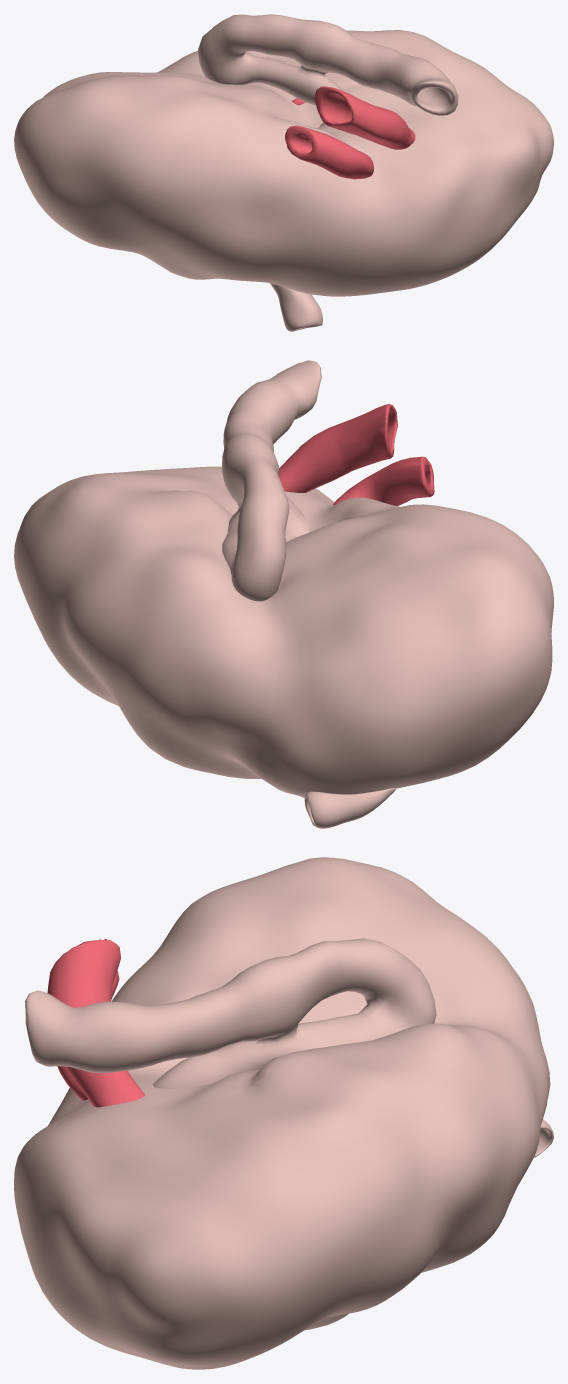
Rendered from organ_lymph_node_m.glb.
3 views of the same model, one above another, from view 1: azimuth 30°, elevation 25°; view 2: azimuth 150°, elevation 25°; view 3: azimuth 270°, elevation 25° (orthographic). The views are drawn at different scales.
Parts seen in each view (by area): view 1: Yao_capsule_of_lymph_node, Yao_efferent_lymph_node, Yao_blood_vasculature, Yao_afferent_lymphatic_vessel; view 2: Yao_capsule_of_lymph_node, Yao_efferent_lymph_node, Yao_blood_vasculature, Yao_afferent_lymphatic_vessel; view 3: Yao_capsule_of_lymph_node, Yao_efferent_lymph_node, Yao_blood_vasculature.
Part boxes in pixels (<box>): Yao_capsule_of_lymph_node: <box>14,30,553,296</box>; Yao_efferent_lymph_node: <box>198,14,458,132</box>; Yao_blood_vasculature: <box>285,86,415,179</box>; Yao_afferent_lymphatic_vessel: <box>270,283,322,331</box>; Yao_capsule_of_lymph_node: <box>14,466,553,797</box>; Yao_efferent_lymph_node: <box>222,360,321,601</box>; Yao_blood_vasculature: <box>279,404,434,506</box>; Yao_afferent_lymphatic_vessel: <box>304,788,396,828</box>; Yao_capsule_of_lymph_node: <box>14,857,550,1369</box>; Yao_efferent_lymph_node: <box>25,938,436,1088</box>; Yao_blood_vasculature: <box>47,939,144,1107</box>.
Bounding box in the file's own units: 0.0183 × 0.0107 × 0.013.
